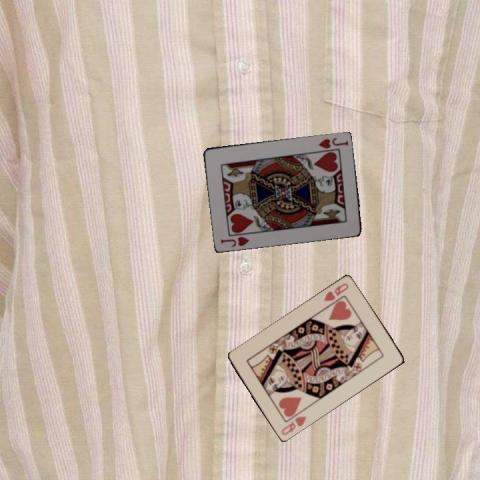Jh: (315, 135, 350, 150), (218, 233, 251, 248)
Qh: (278, 413, 308, 437), (321, 280, 350, 303)
